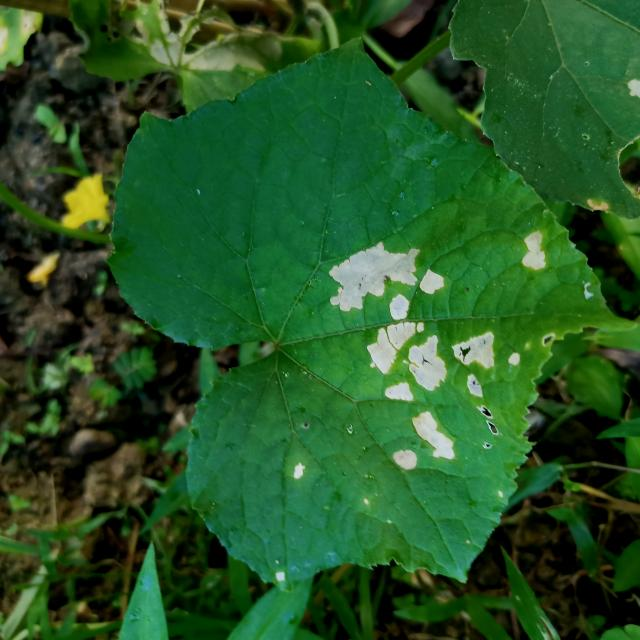disease_cucumber: (324, 236, 505, 479), (510, 221, 552, 278), (282, 458, 318, 486)
